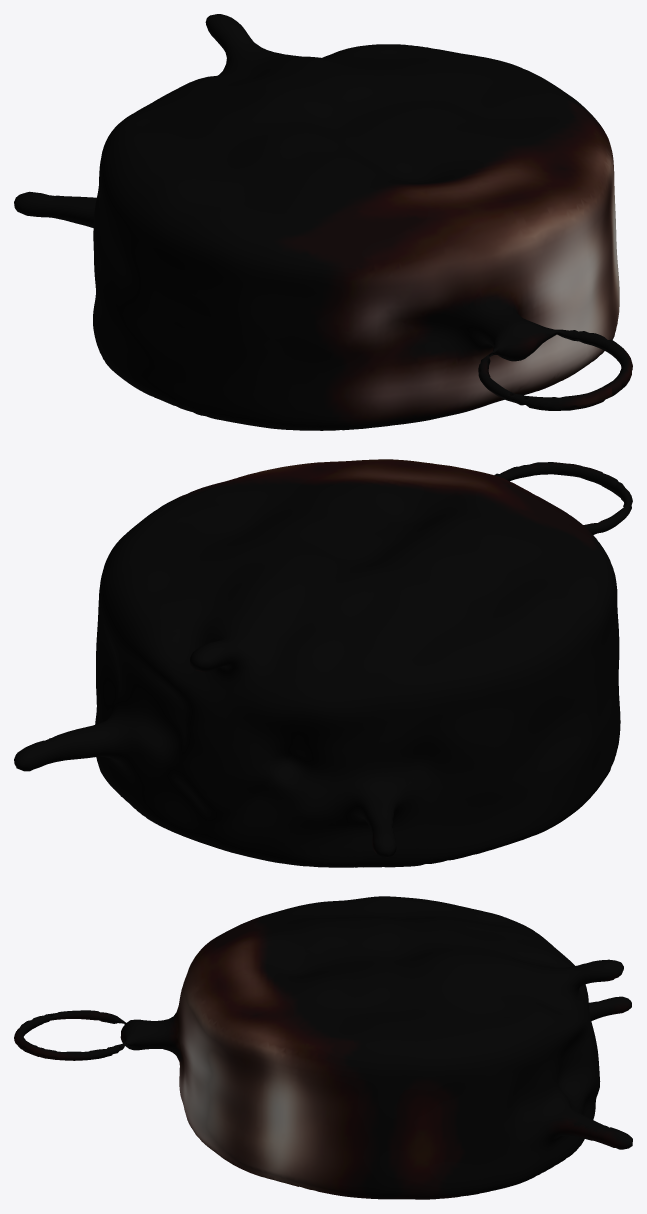
Rendered from alarm.glb.
3 views of the same model, one above another, from view 1: azimuth 30°, elevation 25°; view 2: azimuth 150°, elevation 25°; view 3: azimuth 270°, elevation 25° (orthographic). The views are drawn at different scales.
Bounding box in the file's own units: 0.6653 × 0.3189 × 0.9967.
